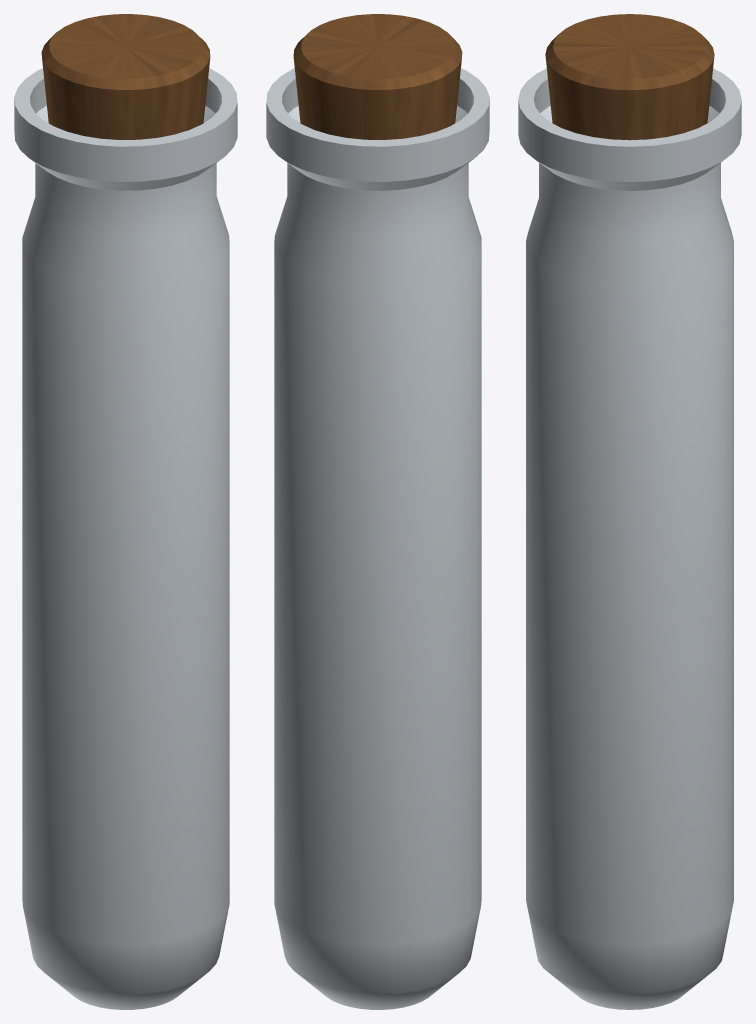
The model's file is potion_vial.glb.
3 renders of one model, left to right at view 1: azimuth 30°, elevation 25°; view 2: azimuth 150°, elevation 25°; view 3: azimuth 270°, elevation 25°, orthographic.
Visible parts, largest first — view 1: potion_vial_glass, potion_vial_cork; view 2: potion_vial_glass, potion_vial_cork; view 3: potion_vial_glass, potion_vial_cork.
Boxes of the visible parts, box(x1,y1,x2,y2) form: potion_vial_glass: box(14, 68, 237, 1009); potion_vial_cork: box(41, 14, 210, 139); potion_vial_glass: box(266, 68, 489, 1009); potion_vial_cork: box(293, 14, 462, 139); potion_vial_glass: box(518, 68, 741, 1009); potion_vial_cork: box(545, 14, 714, 140).
Bounding box in the file's own units: 0.0103 × 0.0483 × 0.0103.
Materials: 2 (1 with a texture image).
